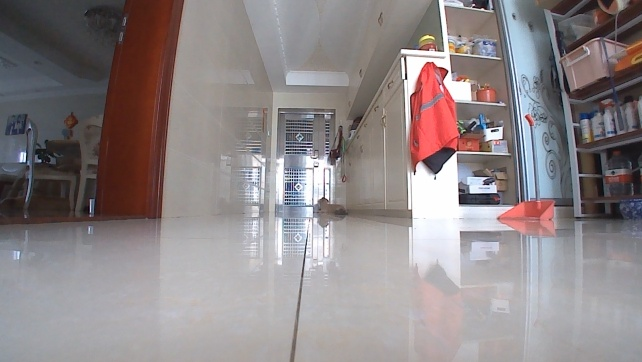dining_table: (7, 115, 105, 216)
door_anno: (275, 110, 336, 214)
